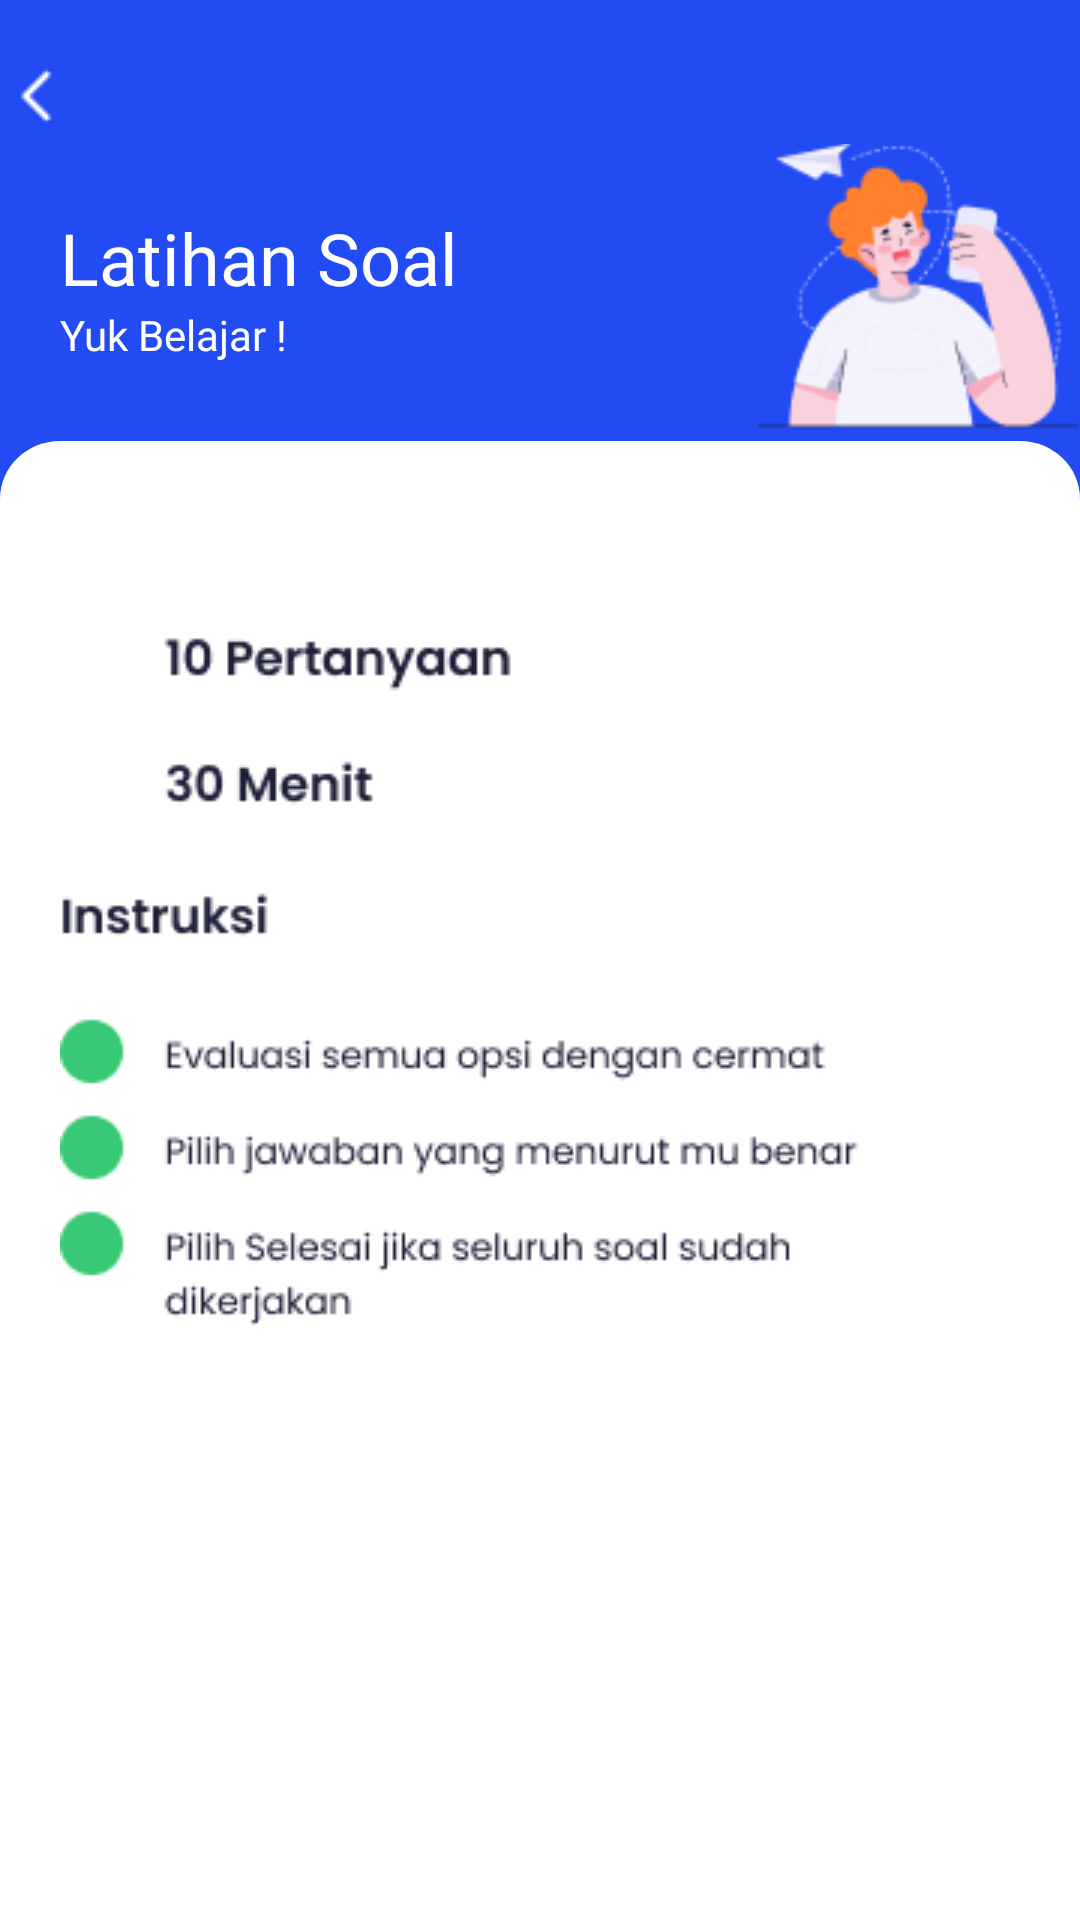

Locate icon controls on the screen. Image size 1080 × 1920, boxes as bbox(x1, y1, x2, y2).
leftsiku: bbox(20, 69, 52, 122)
